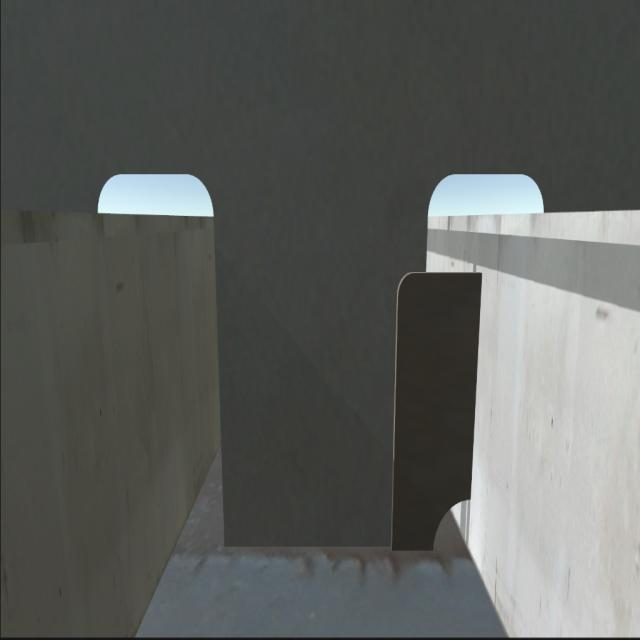fillet_hole: (426, 499, 471, 558)
fillet_yong_jeop_jang: (216, 537, 437, 561)
longi_yong_jeop_jang: (465, 264, 487, 495)
plate_CP05: (394, 268, 474, 553)
